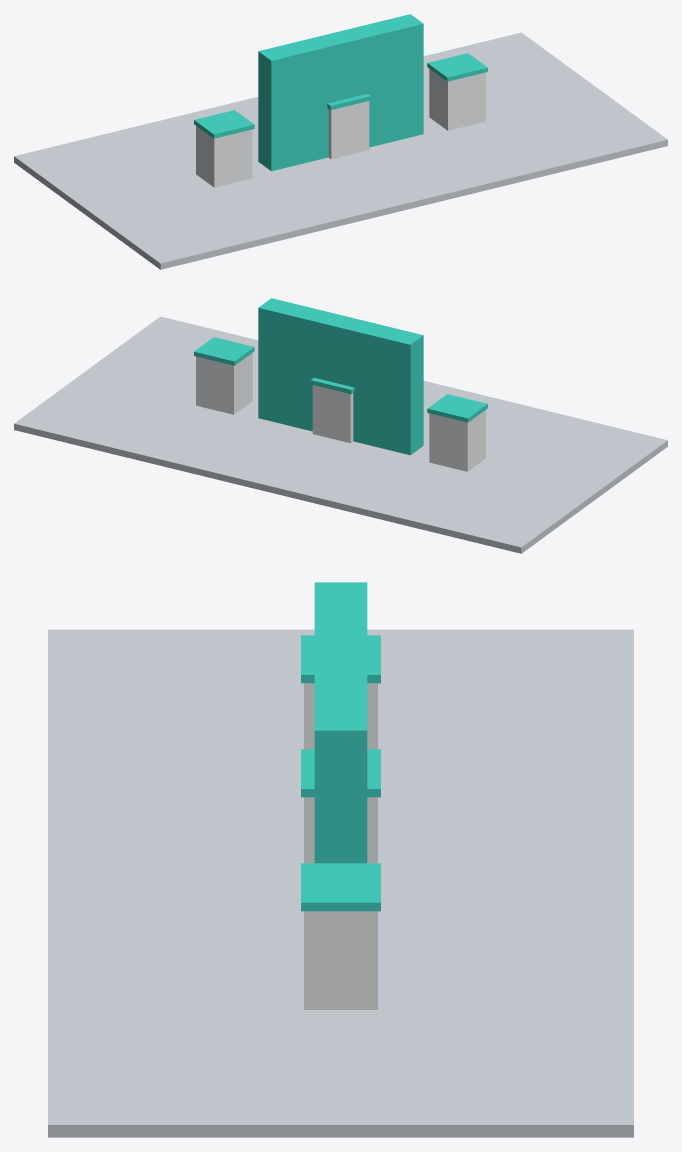
The picture shows the model from 3 angles, top to bottom: view 1: azimuth 30°, elevation 25°; view 2: azimuth 150°, elevation 25°; view 3: azimuth 270°, elevation 25°; orthographic projection. The views are drawn at different scales.
Parts seen in each view (by area): view 1: Exhibition Booth Concept; view 2: Exhibition Booth Concept; view 3: Exhibition Booth Concept.
Boxes of the visible parts, bbox=[...] form: Exhibition Booth Concept: bbox=[14, 14, 667, 269]; Exhibition Booth Concept: bbox=[14, 298, 667, 553]; Exhibition Booth Concept: bbox=[48, 582, 633, 1137].
Bounding box in the file's own units: 10 × 2.2 × 5.
